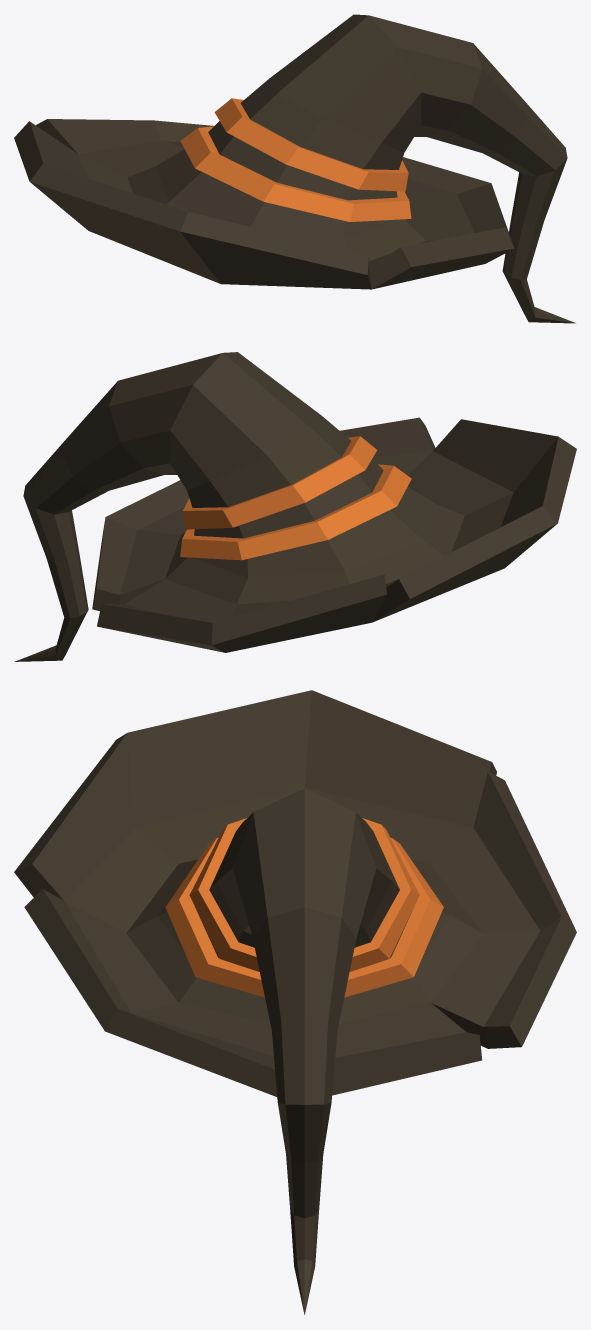
File: WF_LP_HT_Props_Hat.004.fbx
3 renders of one model, top to bottom at view 1: azimuth 30°, elevation 25°; view 2: azimuth 150°, elevation 25°; view 3: azimuth 270°, elevation 25°, orthographic. The views are drawn at different scales.
Parts seen in each view (by area): view 1: WF_LP_HT_Props_Hat.004; view 2: WF_LP_HT_Props_Hat.004; view 3: WF_LP_HT_Props_Hat.004.
Part boxes in pixels (x1=…): WF_LP_HT_Props_Hat.004: x1=14, y1=14, x2=575, y2=323; WF_LP_HT_Props_Hat.004: x1=14, y1=352, x2=576, y2=661; WF_LP_HT_Props_Hat.004: x1=14, y1=690, x2=576, y2=1314.
Bounding box in the file's own units: 0.8176 × 0.5146 × 0.6386.
